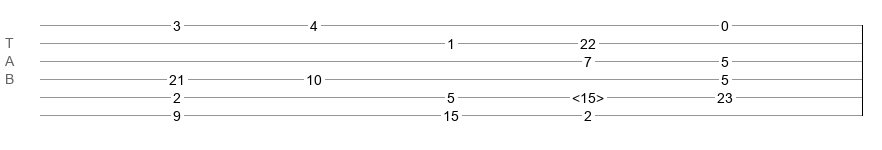0: (721, 18, 729, 28)
1: (447, 36, 455, 46)
10: (306, 72, 322, 82)
15: (443, 108, 459, 118)
2: (173, 90, 181, 100), (584, 108, 592, 118)
21: (169, 72, 185, 82)
22: (580, 36, 596, 46)
23: (717, 90, 733, 100)
3: (173, 18, 181, 28)
4: (310, 18, 318, 28)
5: (447, 90, 455, 100), (721, 54, 729, 64), (721, 72, 729, 82)
7: (584, 54, 592, 64)
9: (173, 108, 181, 118)
harmonic: (572, 90, 604, 100)
